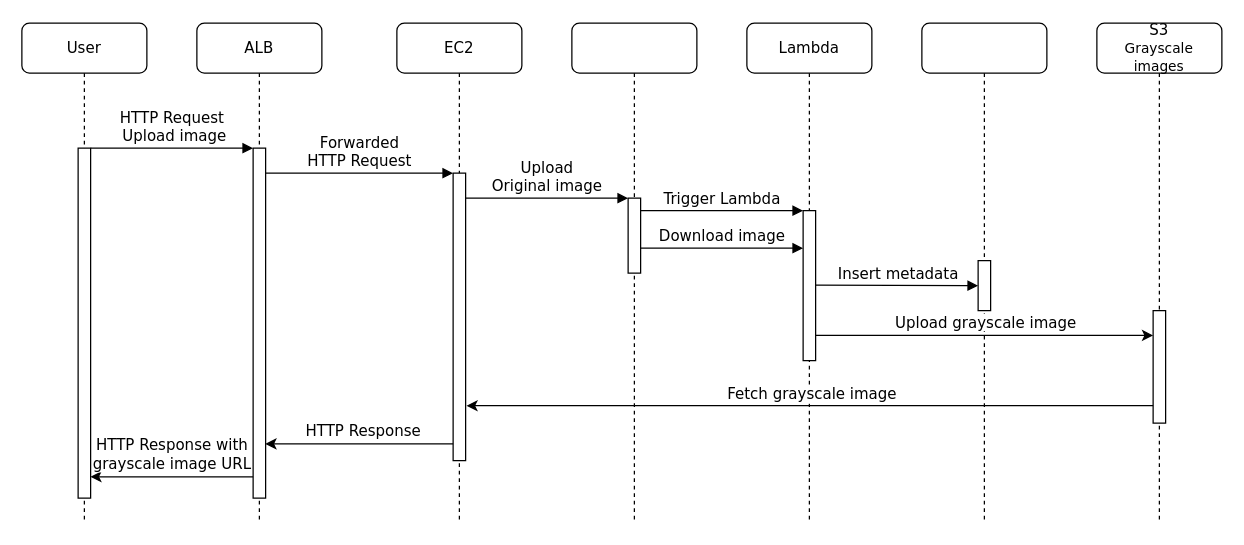
Some shapes in this 1244 by 545 pixel diagram are drawn without their labels. The centre of each missing label's shape, as x and y in pixels:
RDS: the point at 984,272
S3 Original images: the point at 634,272
